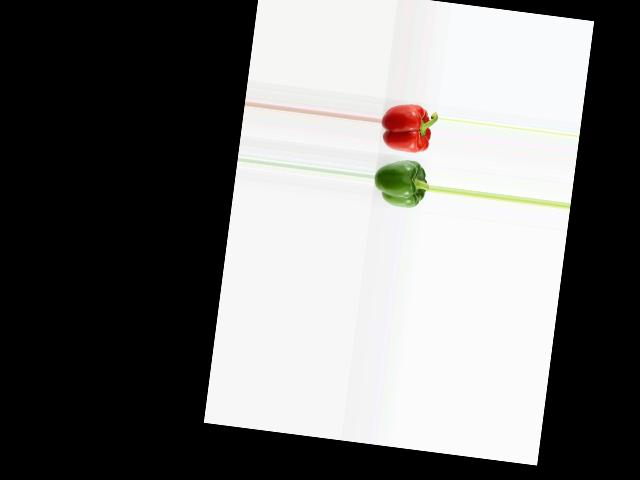bell_pepper: (373, 154, 431, 211)
